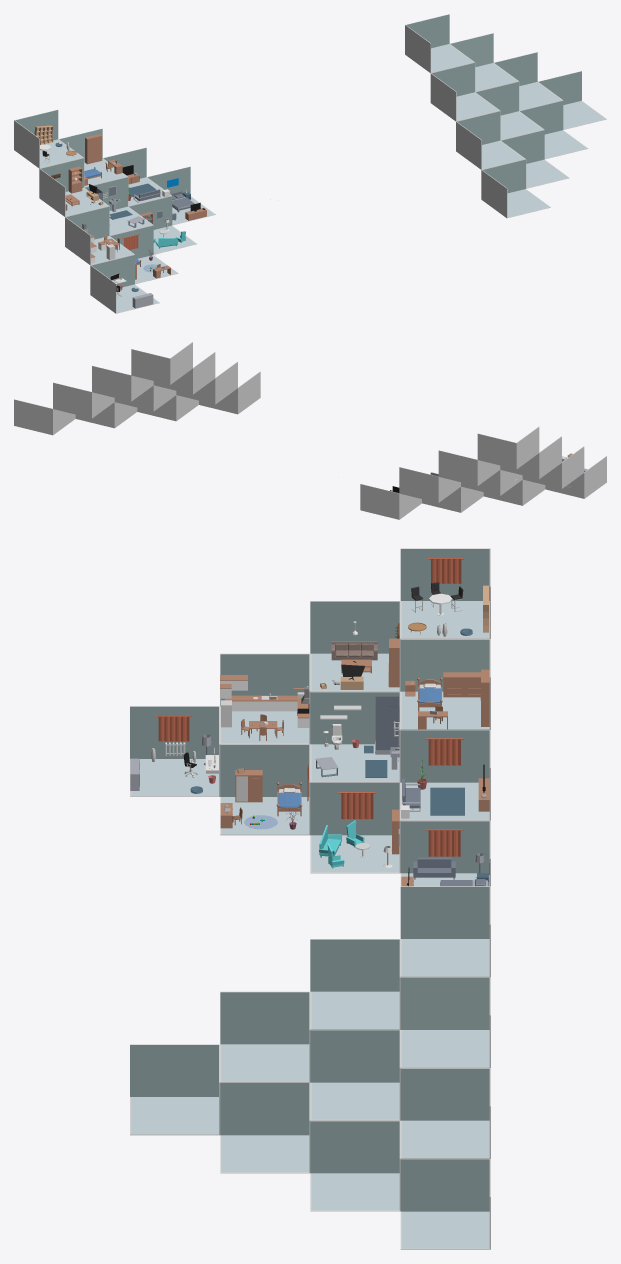
File: SceneComplete.fbx
3 views of the same model, one above another, from view 1: azimuth 30°, elevation 25°; view 2: azimuth 150°, elevation 25°; view 3: azimuth 270°, elevation 25° (orthographic). The views are drawn at different scales.
Parts seen in each view (by area): view 1: Cube.012, Cube.045, Cube.041, Cube.046, Cube.038, Cube.033, Cube.036, Cube.039, Cube.043, Cube.032, Cube.040, Armoire; view 2: Cube.012, Cube.046, Cube.043, Cube.039, Cube.032, Cube.045, Cube.038, Cube.041, Cube.033, Cube.040, Cube.036; view 3: Cube.012, Cube.033, Cube.038, Cube.041, Cube.046, Cube.036, Cube.032, Cube.039, Cube.040, Cube.043, Cube.045, Douche (+7 smaller).
Part boxes in pixels (bbox=[...]): Cube.012: bbox=[14, 109, 215, 313]; Cube.045: bbox=[430, 62, 499, 121]; Cube.041: bbox=[456, 111, 525, 169]; Cube.046: bbox=[405, 14, 474, 73]; Cube.038: bbox=[481, 159, 550, 218]; Cube.033: bbox=[519, 100, 588, 159]; Cube.036: bbox=[500, 130, 569, 188]; Cube.039: bbox=[494, 52, 562, 110]; Cube.043: bbox=[450, 33, 518, 91]; Cube.032: bbox=[538, 71, 606, 129]; Cube.040: bbox=[475, 81, 543, 140]; Armoire: bbox=[85, 134, 102, 164]; Cube.012: bbox=[360, 426, 606, 519]; Cube.046: bbox=[131, 342, 192, 384]; Cube.043: bbox=[92, 366, 153, 401]; Cube.039: bbox=[53, 382, 114, 418]; Cube.032: bbox=[14, 399, 75, 435]; Cube.045: bbox=[153, 352, 215, 394]; Cube.038: bbox=[199, 371, 260, 414]; Cube.041: bbox=[176, 361, 237, 404]; Cube.033: bbox=[75, 402, 137, 428]; Cube.040: bbox=[114, 385, 176, 411]; Cube.036: bbox=[137, 395, 198, 421]; Cube.012: bbox=[130, 548, 490, 886]; Cube.033: bbox=[310, 1120, 400, 1211]; Cube.038: bbox=[130, 1044, 220, 1135]; Cube.041: bbox=[220, 991, 310, 1082]; Cube.046: bbox=[400, 886, 490, 977]; Cube.036: bbox=[220, 1082, 310, 1173]; Cube.032: bbox=[400, 1159, 490, 1249]; Cube.039: bbox=[400, 1068, 490, 1158]; Cube.040: bbox=[310, 1030, 400, 1120]; Cube.043: bbox=[400, 977, 490, 1067]; Cube.045: bbox=[310, 939, 400, 1029]; Douche: bbox=[375, 696, 399, 754].
Bounding box in the file's own units: 18839 × 3774 × 5858.
